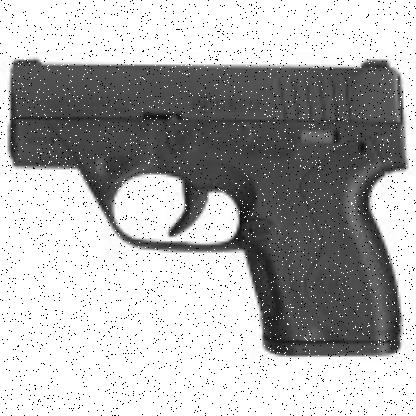gun: (10, 55, 408, 361)
